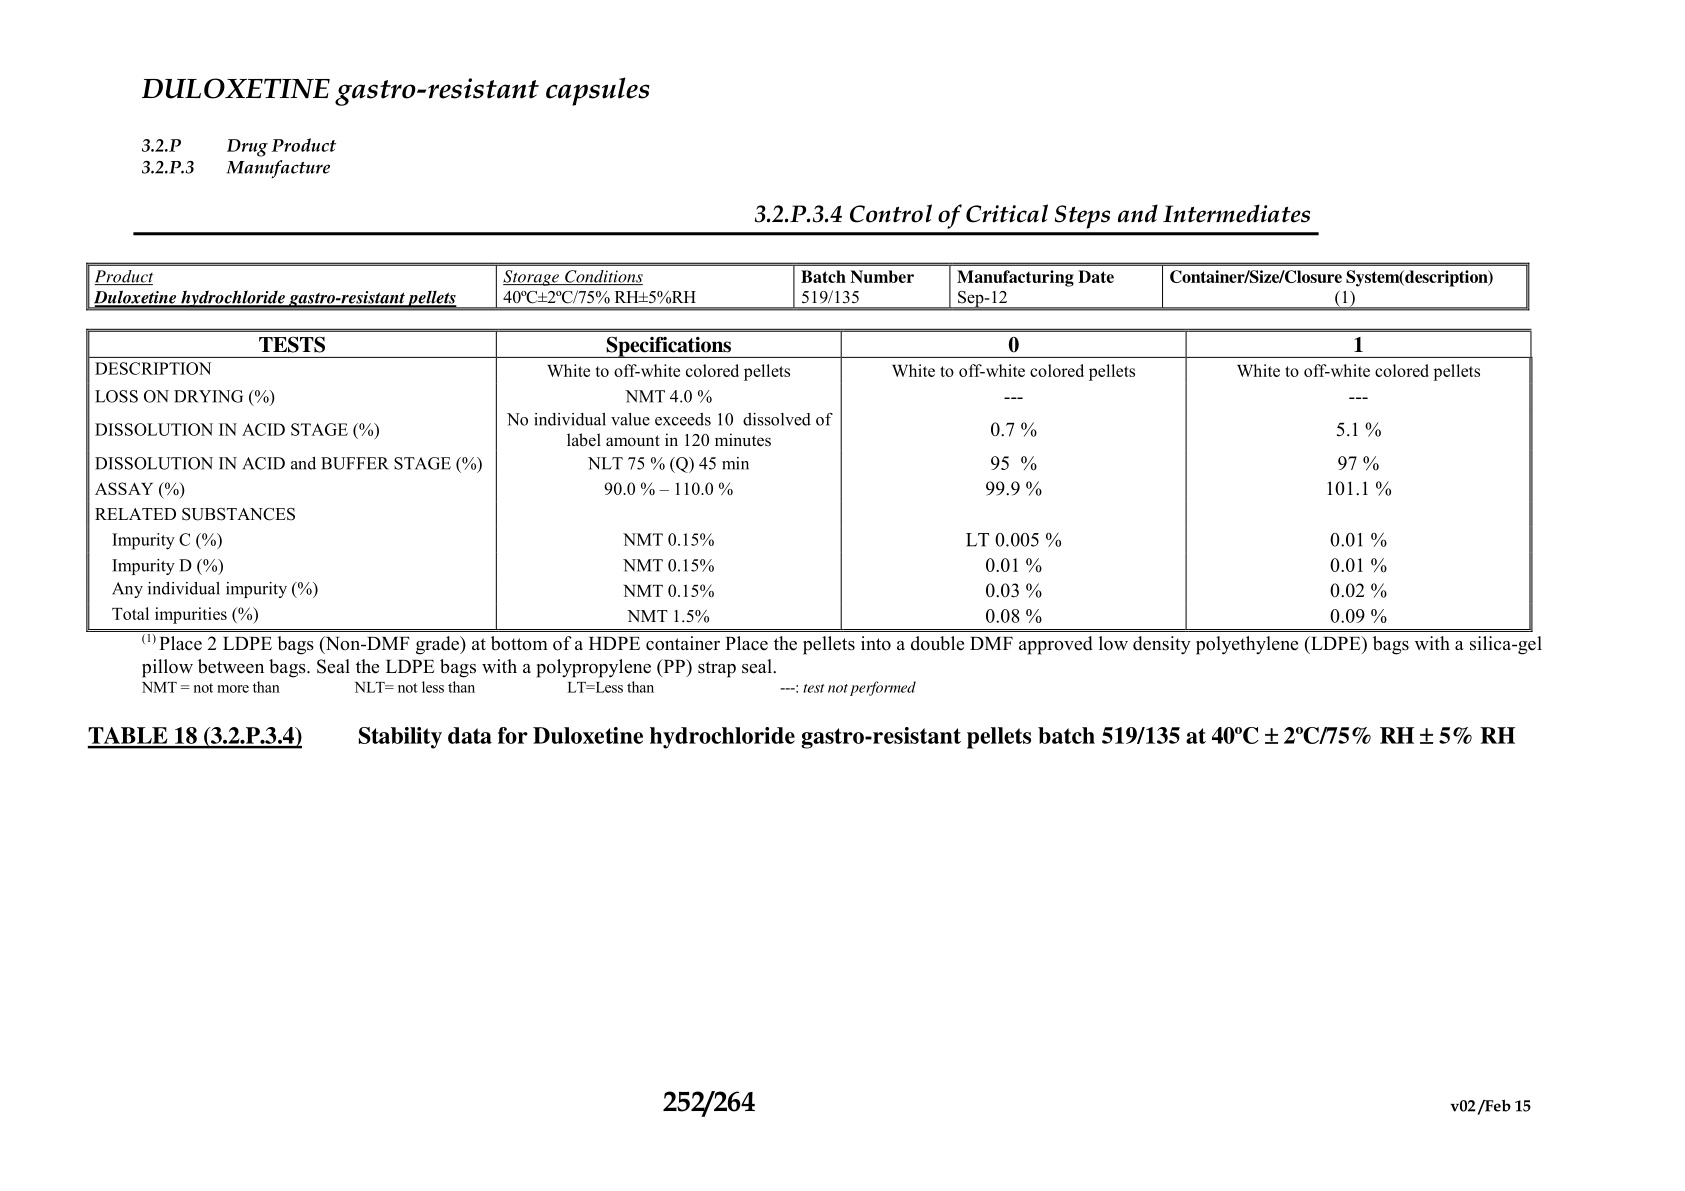full_lined: (85, 327, 1534, 633), (86, 260, 1530, 311)
